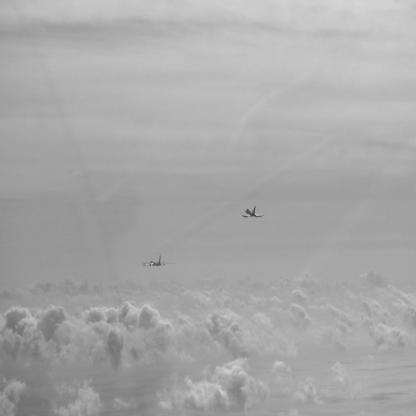EF2000: (243, 206, 266, 219)
Tu95: (138, 257, 178, 269)
